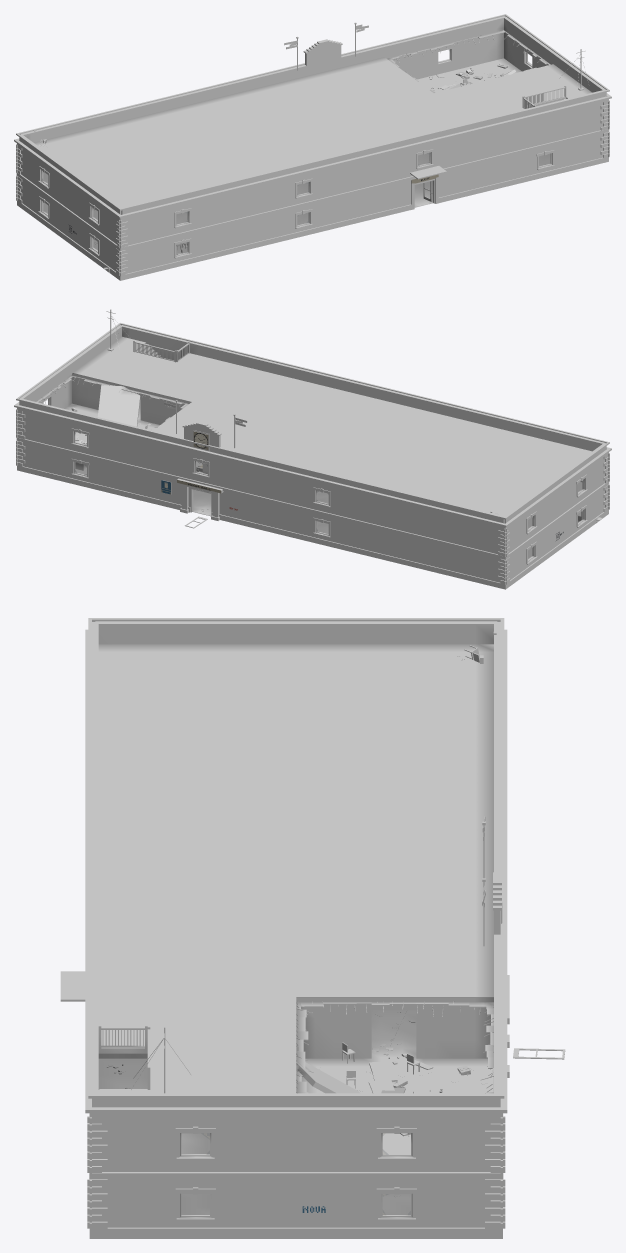
The model's file is town_hall.glb.
3 renders of one model, top to bottom at view 1: azimuth 30°, elevation 25°; view 2: azimuth 150°, elevation 25°; view 3: azimuth 270°, elevation 25°, orthographic. The views are drawn at different scales.
Visible parts, largest first — view 1: town_hall; view 2: town_hall; view 3: town_hall.
Part boxes in pixels (bbox=[...]): town_hall: bbox=[14, 14, 611, 280]; town_hall: bbox=[14, 309, 611, 589]; town_hall: bbox=[60, 618, 565, 1238].
Bounding box in the file's own units: 51.18 × 10.6 × 22.59.
5 materials, 4 textured.
